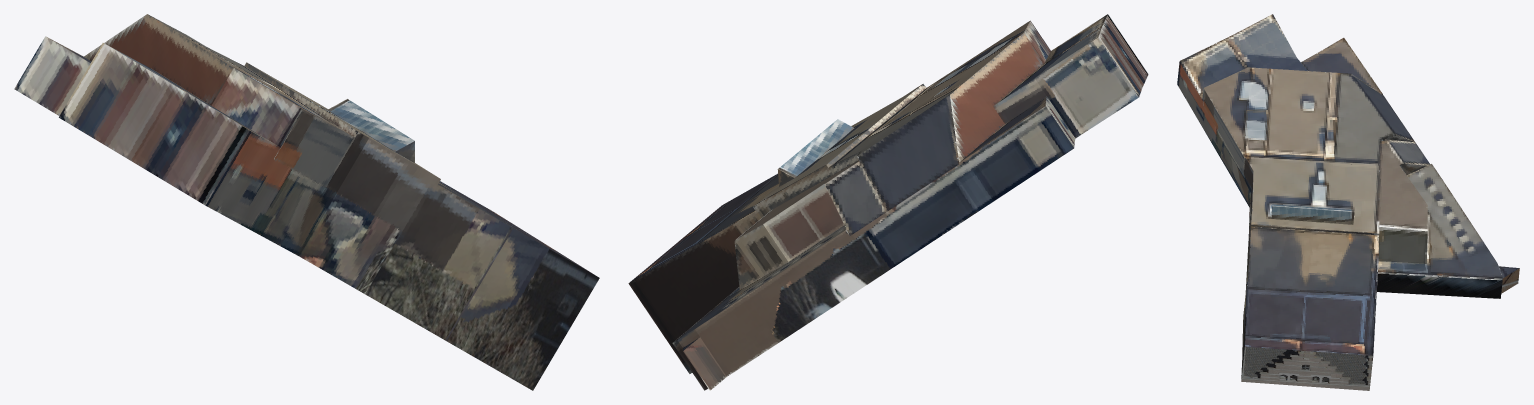
3 renders of one model, left to right at view 1: azimuth 30°, elevation 25°; view 2: azimuth 150°, elevation 25°; view 3: azimuth 270°, elevation 25°, orthographic. The views are drawn at different scales.
Visible parts, largest first — view 1: BAG_0599100010058326 (×6); view 2: BAG_0599100010058326 (×6); view 3: BAG_0599100010058326 (×6).
Part boxes in pixels (left/top/right/bottom): BAG_0599100010058326 (×6): left=14, top=14, right=599, bottom=390; BAG_0599100010058326 (×6): left=628, top=14, right=1148, bottom=390; BAG_0599100010058326 (×6): left=1177, top=14, right=1519, bottom=390.
Bounding box in the file's own units: 31.31 × 25.28 × 30.17.
Materials: 7 (7 with a texture image).
